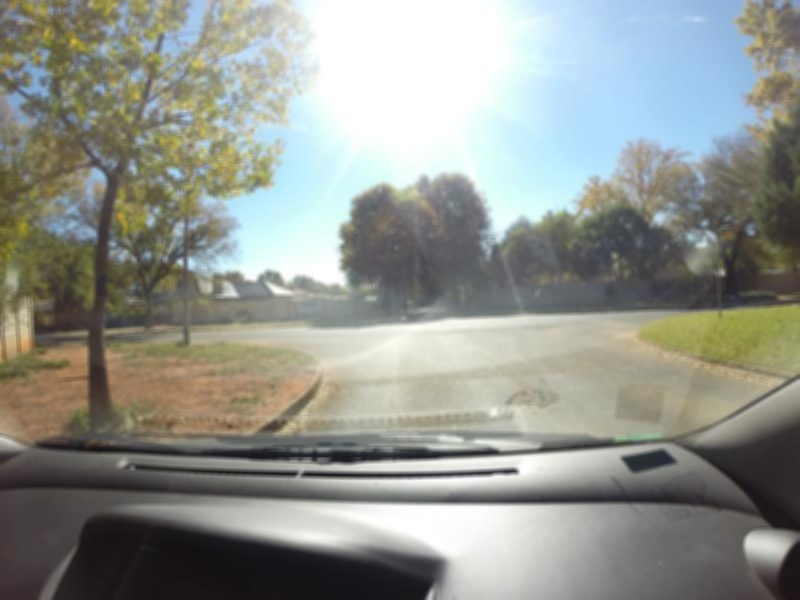pothole: (512, 383, 558, 408)
